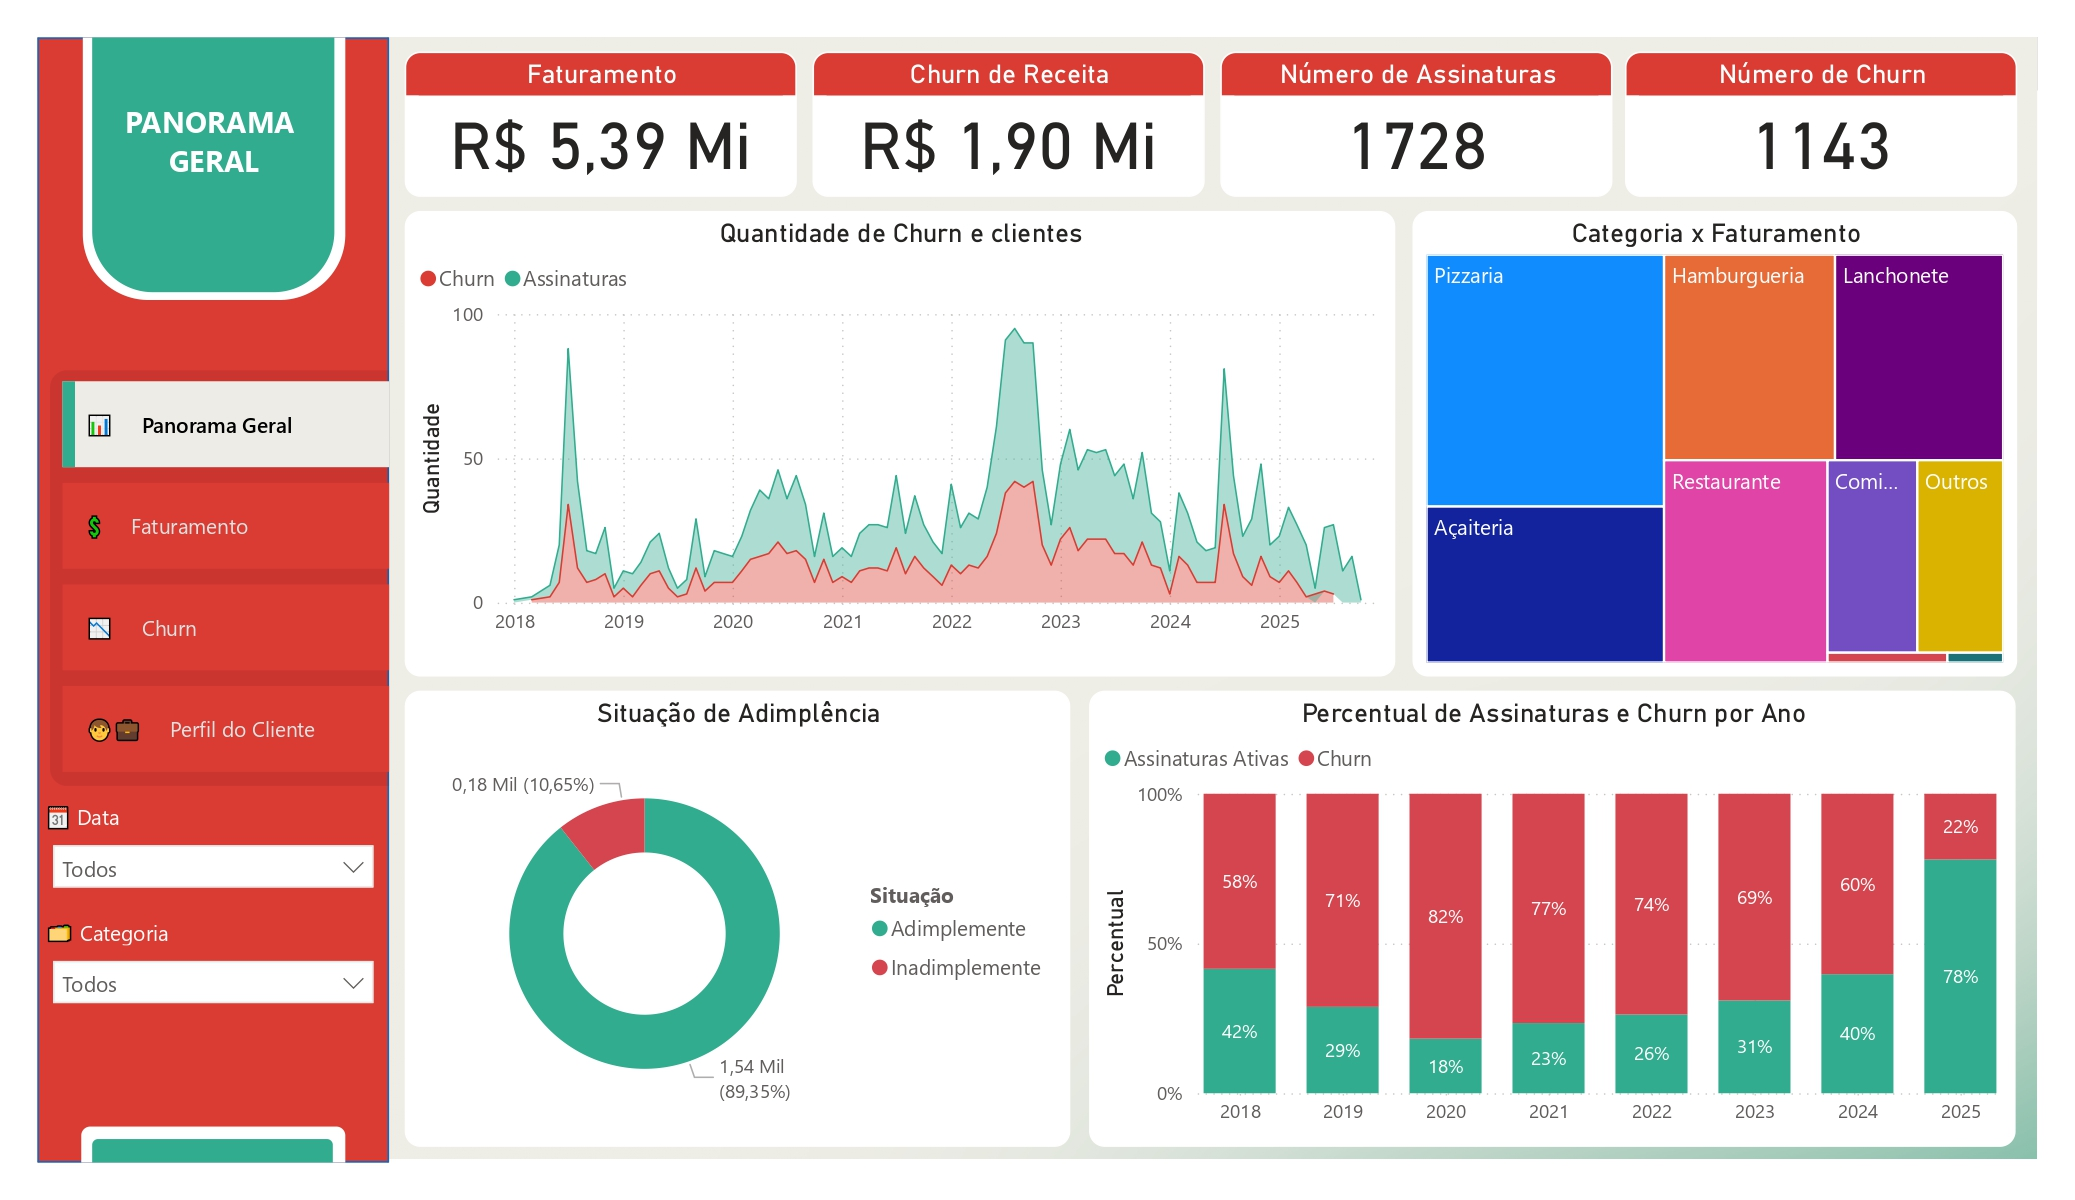

Layout of this report page (visuals, bound fields, positions):
{"tool":"powerbi","page":{"name":" 📊      Panorama Geral","canvas":[1280,720],"ordinal":0},"visuals":[{"type":"shape","title":"Background Menus","box":[0,0,225,720],"z":0},{"type":"card","title":"Faturamento","fields":{"Values":["BASE_ASSINATURAS.faturamento"]},"box":[234.7,8.9,251,93],"z":1000},{"type":"card","title":"Número de Assinaturas","fields":{"Values":["BASE_ASSINATURAS.num clientes"]},"box":[756.9,8.5,250.9,93.5],"z":2000},{"type":"card","title":"Número de Churn","fields":{"Values":["BASE_ASSINATURAS.num de churn"]},"box":[1016.2,8.5,250.9,93.5],"z":3000},{"type":"card","title":"Churn de Receita","fields":{"Values":["BASE_ASSINATURAS.perda_fat_churn"]},"box":[496.1,8.9,251,93],"z":4000},{"type":"shape","box":[7.5,212.5,217.5,266.7],"z":5000},{"type":"pageNavigator","title":"Menu de Navegação","box":[16,220,209,252],"z":6000},{"type":"shape","box":[28.7,0,168,168],"z":7000},{"type":"shape","box":[35,0,155,163],"z":8000},{"type":"stackedAreaChart","title":"Quantidade de Churn e clientes","fields":{"Category":["BASE_ASSINATURAS.DATA_VENDA.Variation.Hierarquia de datas.Ano","BASE_ASSINATURAS.DATA_VENDA.Variation.Hierarquia de datas.Trimestre","BASE_ASSINATURAS.DATA_VENDA.Variation.Hierarquia de datas.Mês","BASE_ASSINATURAS.DATA_VENDA.Variation.Hierarquia de datas.Dia"],"Y":["BASE_ASSINATURAS.Churn","BASE_ASSINATURAS.Assinaturas"]},"box":[234.7,110.6,634.6,298.6],"z":9000},{"type":"donutChart","title":"Situação de Adimplência","fields":{"Category":["BASE_ASSINATURAS.Situação de Adimplência"],"Y":["CountNonNull(BASE_ASSINATURAS.Situação de Adimplência)"]},"box":[234.7,417.7,426.3,292.4],"z":10000},{"type":"hundredPercentStackedColumnChart","title":"Percentual de Assinaturas e Churn por Ano","fields":{"Category":["BASE_ASSINATURAS.DATA_VENDA.Variation.Hierarquia de datas.Ano"],"Y":["BASE_ASSINATURAS.variacao liquida de clientes","BASE_ASSINATURAS.Número de Churn"]},"box":[673.3,417.7,592.8,292.4],"z":11000},{"type":"treemap","title":"Categoria x Faturamento","fields":{"Values":["BASE_ASSINATURAS.faturamento"],"Group":["BASE_ASSINATURAS.CATEGORIA"]},"box":[880,111,387,298],"z":12000},{"type":"slicer","title":"🗓️ Data","fields":{"Values":["BASE_ASSINATURAS.DATA_VENDA"]},"box":[0,490,225,75.8],"z":13000},{"type":"image","box":[47,8,131,131],"z":14000},{"type":"slicer","title":"🗂️ Categoria","fields":{"Values":["BASE_ASSINATURAS.CATEGORIA"]},"box":[0,564.2,225,75.8],"z":15000},{"type":"shape","box":[28,697,169,23],"z":16000},{"type":"shape","box":[35,705,154,15],"z":17000}]}

Visuals, with their boxes on the page's 1280x720 design canvas (x1, y1, x2, y2). These are canvas units, not pixel positions in the 2075x1200 screenshot, which may show the page scaled, cropped or inside an application window:
"Background Menus" shape: (0, 0, 225, 720)
"Faturamento" card: (235, 9, 486, 102)
"Número de Assinaturas" card: (757, 8, 1008, 102)
"Número de Churn" card: (1016, 8, 1267, 102)
"Churn de Receita" card: (496, 9, 747, 102)
shape: (8, 212, 225, 479)
"Menu de Navegação" pageNavigator: (16, 220, 225, 472)
shape: (29, 0, 197, 168)
shape: (35, 0, 190, 163)
"Quantidade de Churn e clientes" stackedAreaChart: (235, 111, 869, 409)
"Situação de Adimplência" donutChart: (235, 418, 661, 710)
"Percentual de Assinaturas e Churn por Ano" hundredPercentStackedColumnChart: (673, 418, 1266, 710)
"Categoria x Faturamento" treemap: (880, 111, 1267, 409)
"🗓️ Data" slicer: (0, 490, 225, 566)
image: (47, 8, 178, 139)
"🗂️ Categoria" slicer: (0, 564, 225, 640)
shape: (28, 697, 197, 720)
shape: (35, 705, 189, 720)
